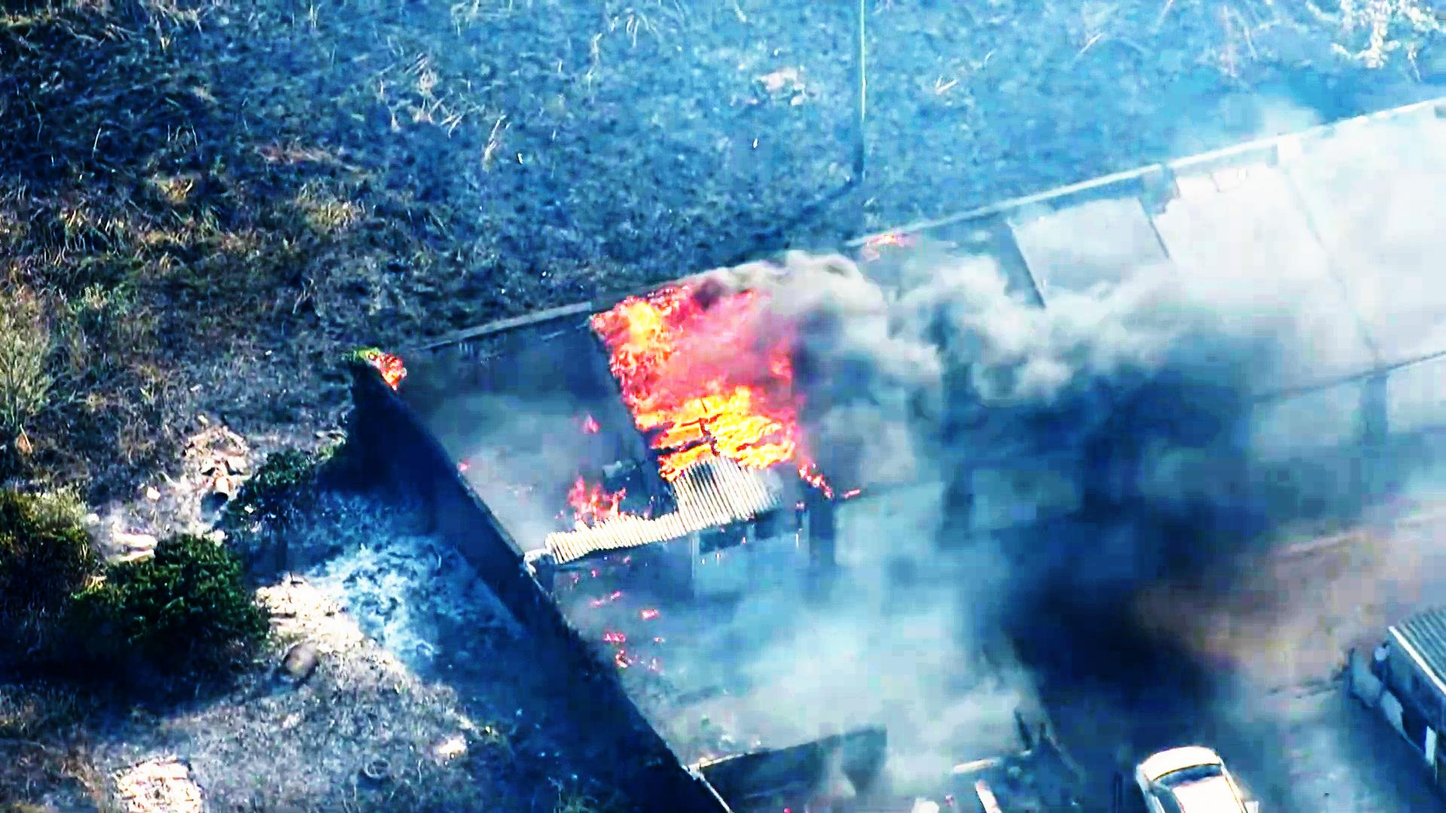fire: (620, 296, 788, 457)
smoke: (882, 254, 1239, 487)
